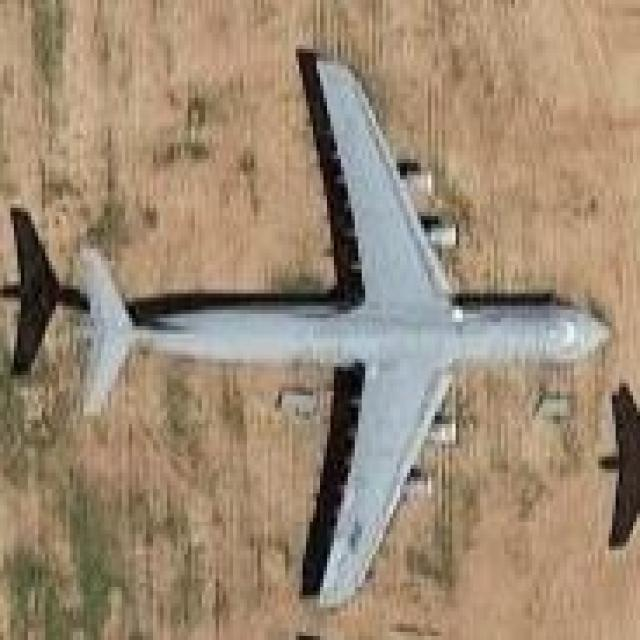C-5_TopDown: (2, 49, 617, 615)
